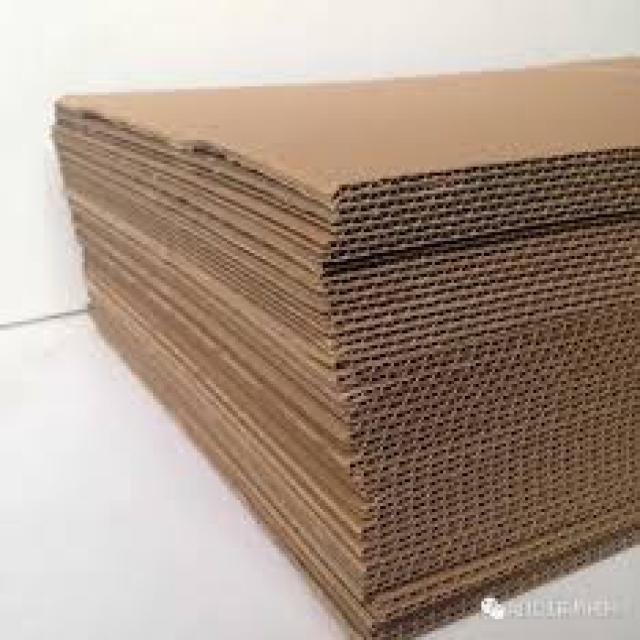Cardboard: (53, 52, 638, 640)
